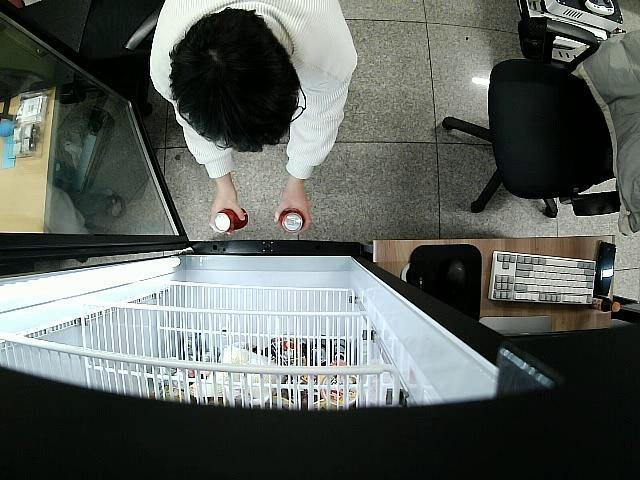11_cocaColaZero: (214, 208, 248, 232), (278, 208, 305, 234)
